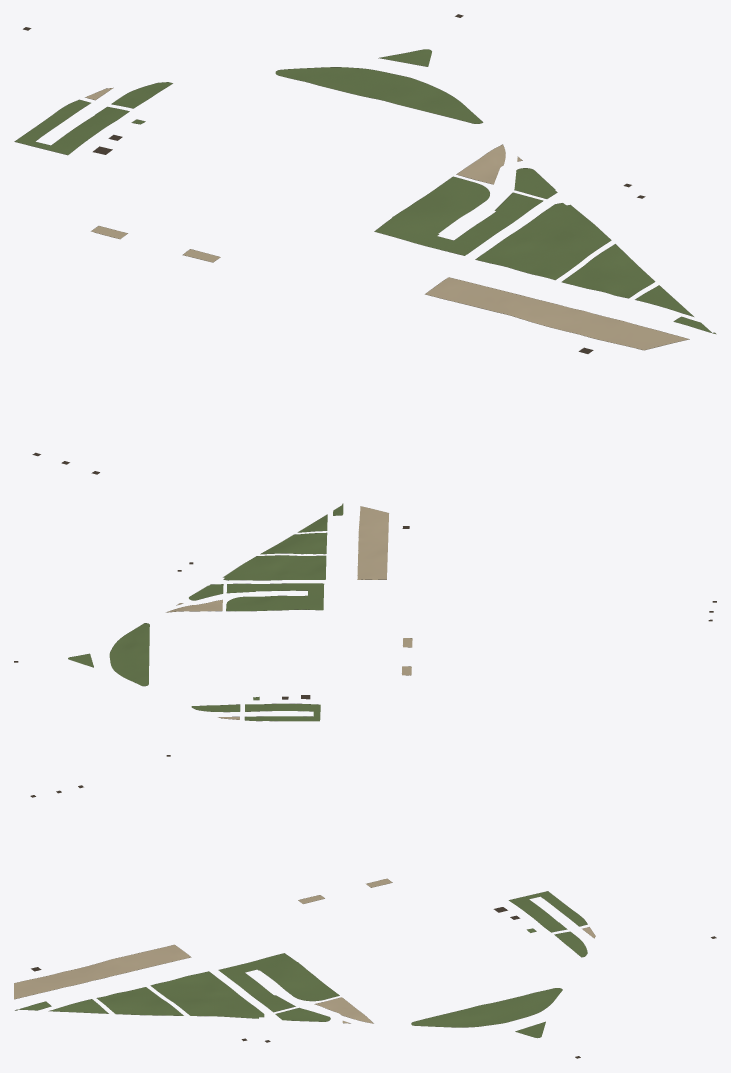
The model's file is green.glb.
3 renders of one model, top to bottom at view 1: azimuth 30°, elevation 25°; view 2: azimuth 150°, elevation 25°; view 3: azimuth 270°, elevation 25°, orthographic. The views are drawn at different scales.
Visible parts, largest first — view 1: green__Ground grass 69e1b23b, green__Ground plain aee9afcd, green__Ground colour #9C978F; view 2: green__Ground grass 69e1b23b, green__Ground plain aee9afcd, green__Ground colour #9C978F; view 3: green__Ground grass 69e1b23b, green__Ground plain aee9afcd, green__Ground colour #9C978F.
Boxes of the visible parts, <box> form: green__Ground grass 69e1b23b: <box>15,49,715,333</box>; green__Ground plain aee9afcd: <box>85,88,688,350</box>; green__Ground colour #9C978F: <box>14,49,715,353</box>; green__Ground grass 69e1b23b: <box>68,503,343,721</box>; green__Ground plain aee9afcd: <box>166,506,412,719</box>; green__Ground colour #9C978F: <box>69,504,412,721</box>; green__Ground grass 69e1b23b: <box>15,891,587,1037</box>; green__Ground plain aee9afcd: <box>14,878,595,1023</box>; green__Ground colour #9C978F: <box>15,880,595,1038</box>.
Bounding box in the file's own units: 268 × 2.04 × 292.
4 materials, 1 textured.
